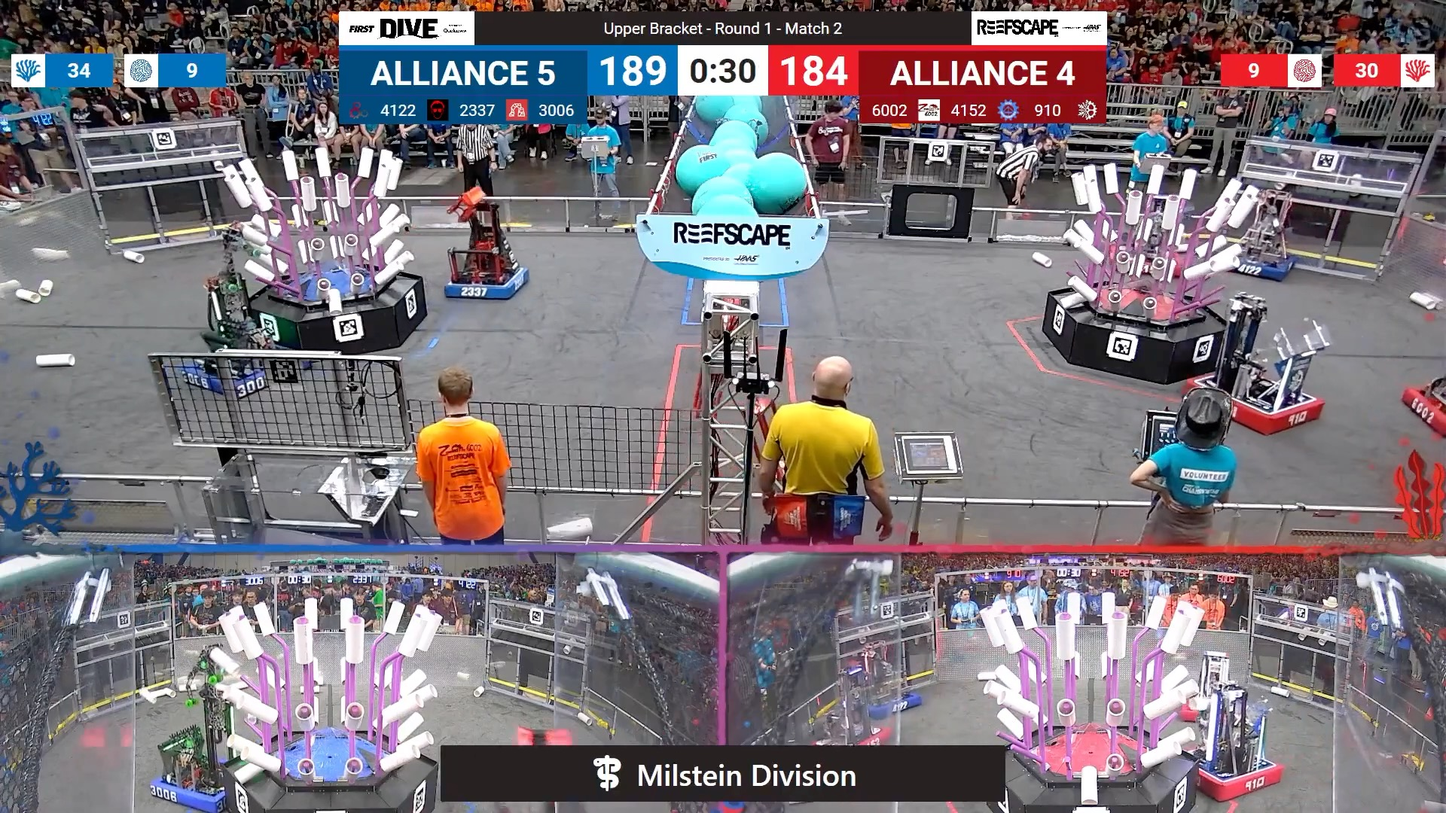bumpers: (1180, 378, 1332, 440), (172, 349, 299, 399), (1178, 749, 1288, 800), (146, 762, 252, 812), (438, 260, 535, 306), (1396, 376, 1445, 443), (1219, 248, 1303, 283), (848, 687, 929, 722), (505, 716, 577, 747)
